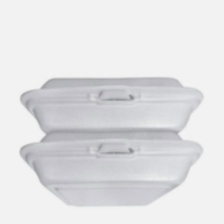foam_box: (17, 127, 206, 213), (18, 74, 207, 136)
